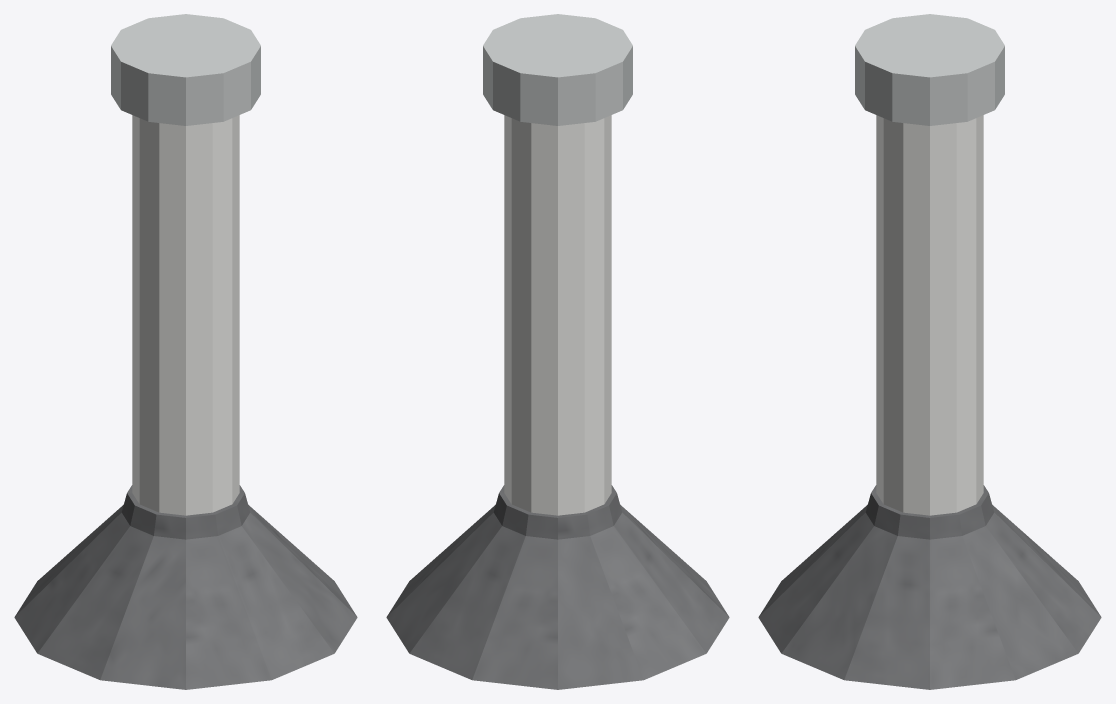
The model's file is vent_stack.glb.
3 views of the same model, side by side, from view 1: azimuth 30°, elevation 25°; view 2: azimuth 150°, elevation 25°; view 3: azimuth 270°, elevation 25° (orthographic).
Parts seen in each view (by area): view 1: vent_stack_membrane, vent_stack_paint_w, vent_stack_galv; view 2: vent_stack_membrane, vent_stack_paint_w, vent_stack_galv; view 3: vent_stack_membrane, vent_stack_paint_w, vent_stack_galv.
Part boxes in pixels (x1,y1,x2,y2): vent_stack_membrane: (14, 485, 357, 689); vent_stack_paint_w: (132, 115, 239, 515); vent_stack_galv: (111, 14, 260, 125); vent_stack_membrane: (386, 485, 729, 689); vent_stack_paint_w: (504, 115, 611, 515); vent_stack_galv: (483, 14, 632, 125); vent_stack_membrane: (758, 485, 1101, 689); vent_stack_paint_w: (876, 115, 983, 515); vent_stack_galv: (855, 14, 1004, 125).
Bounding box in the file's own units: 0.32 × 0.6 × 0.32.
3 materials, 1 textured.
